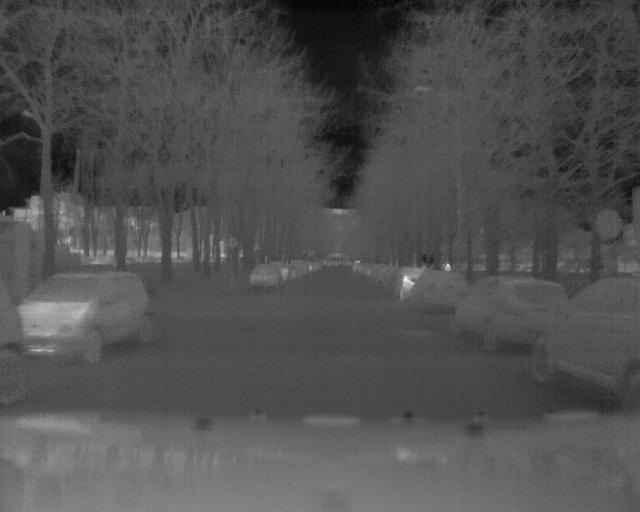car: (16, 268, 163, 368), (532, 272, 640, 406), (451, 271, 571, 362), (412, 270, 469, 314), (248, 261, 283, 291)
